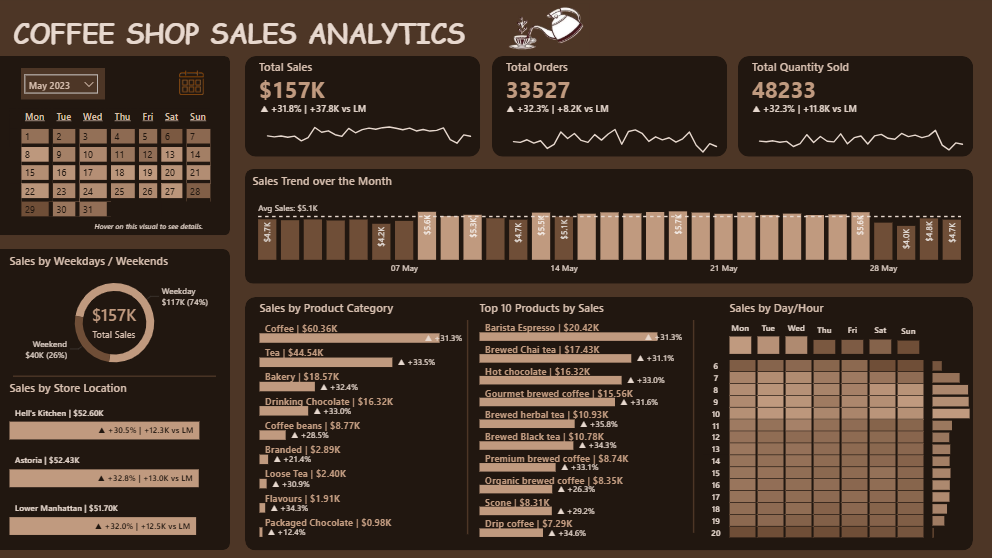

Layout of this report page (visuals, bound fields, positions):
{"tool":"powerbi","page":{"name":"Page 1","canvas":[1420,800],"ordinal":0},"visuals":[{"type":"shape","box":[352,424,1040,362],"z":0},{"type":"shape","box":[352,80,336,144],"z":1000},{"type":"shape","box":[0,356,330,430],"z":2000},{"type":"shape","box":[704,80,336,144],"z":3000},{"type":"shape","box":[352,242,1040,164],"z":4000},{"type":"shape","box":[1056,80,336,144],"z":5000},{"type":"shape","box":[0,80,330,256],"z":6000},{"type":"shape","box":[32,97,120,45],"z":7000},{"type":"cardVisual","fields":{"Data":["coffee_shop_sales.Total Sales"]},"box":[352,85,336,134],"z":8000},{"type":"cardVisual","fields":{"Data":["coffee_shop_sales.Total Orders"]},"box":[704,85,336,134],"z":9000},{"type":"cardVisual","fields":{"Data":["coffee_shop_sales.Total Quantity Sold"]},"box":[1056,85,336,134],"z":10000},{"type":"slicer","fields":{"Values":["Calendar Table.Month Year"]},"box":[32,102,115,32],"z":11000},{"type":"lineChart","fields":{"Category":["Calendar Table.Date.Variation.Date Hierarchy.Year","Calendar Table.Date.Variation.Date Hierarchy.Quarter","Calendar Table.Date.Variation.Date Hierarchy.Month","Calendar Table.Date.Variation.Date Hierarchy.Day"],"Y":["coffee_shop_sales.Total Sales"]},"box":[368,146,320,78],"z":12000},{"type":"lineChart","fields":{"Category":["Calendar Table.Date.Variation.Date Hierarchy.Year","Calendar Table.Date.Variation.Date Hierarchy.Quarter","Calendar Table.Date.Variation.Date Hierarchy.Month","Calendar Table.Date.Variation.Date Hierarchy.Day"],"Y":["coffee_shop_sales.Total Orders"]},"box":[720,146,320,78],"z":13000},{"type":"lineChart","fields":{"Category":["Calendar Table.Date.Variation.Date Hierarchy.Year","Calendar Table.Date.Variation.Date Hierarchy.Quarter","Calendar Table.Date.Variation.Date Hierarchy.Month","Calendar Table.Date.Variation.Date Hierarchy.Day"],"Y":["coffee_shop_sales.Total Quantity Sold"]},"box":[1072,146,320,78],"z":14000},{"type":"pivotTable","fields":{"Rows":["Calendar Table.Week number"],"Columns":["Calendar Table.Day Name"],"Values":["Min(Calendar Table.month date)"]},"box":[10,150,310,176],"z":15000},{"type":"donutChart","title":"Sales by Weekdays / Weekends","fields":{"Y":["coffee_shop_sales.Total Sales"],"Category":["Calendar Table.Day Type"]},"box":[10,361,310,178],"z":16000},{"type":"card","fields":{"Values":["coffee_shop_sales.Total Sales"]},"box":[124,422,80,74],"z":17000},{"type":"clusteredBarChart","title":"Sales by Store Location","fields":{"Y":["coffee_shop_sales.Placeholder","coffee_shop_sales.Total Sales"],"Category":["coffee_shop_sales.store_location"]},"box":[10,543,310,230],"z":18000},{"type":"columnChart","title":"Sales Trend over the Month","fields":{"Y":["coffee_shop_sales.Total Sales"],"Category":["coffee_shop_sales.transaction_date"]},"box":[357,247,1030,154],"z":19000},{"type":"clusteredBarChart","title":"Sales by Product Category","fields":{"Y":["coffee_shop_sales.Placeholder","coffee_shop_sales.Total Sales"],"Category":["coffee_shop_sales.product_category"]},"box":[367,429,300,344],"z":20000},{"type":"clusteredBarChart","title":"Top 10 Products by Sales","fields":{"Y":["coffee_shop_sales.Placeholder","coffee_shop_sales.Total Sales"],"Category":["coffee_shop_sales.product_type"]},"box":[682,429,300,344],"z":21000},{"type":"pivotTable","fields":{"Rows":["coffee_shop_sales.Transaction Hour"],"Columns":["Calendar Table.Day Name"],"Values":["coffee_shop_sales.Total Sales"]},"box":[1000,485,370,296],"z":22000},{"type":"barChart","fields":{"Category":["coffee_shop_sales.Transaction Hour"],"Y":["coffee_shop_sales.Total Sales"]},"box":[1328,503,64,270],"z":23000},{"type":"columnChart","title":"Sales by Day/Hour","fields":{"Y":["coffee_shop_sales.Total Sales"],"Category":["Calendar Table.Day Name"]},"box":[1038,429,282,83],"z":24000},{"type":"image","box":[244,96,60,45],"z":25000},{"type":"shape","box":[20,531,290,12],"z":26000},{"type":"shape","box":[662,457,16,306],"z":27000},{"type":"shape","box":[984,457,16,304],"z":28000},{"type":"image","box":[700,0,160,80],"z":29000},{"type":"textbox","box":[16,16,720,64],"z":30000},{"type":"textbox","box":[132,308,176,28],"z":31000}]}

Visuals, with their boxes in screenshot pixels (x1, y1, x2, y2), scaled from the page's 1420x800 canvas onto the 992x558 screenshot:
shape: 246:296:972:548
shape: 246:56:481:156
shape: 0:248:231:548
shape: 492:56:727:156
shape: 246:169:972:283
shape: 738:56:972:156
shape: 0:56:231:234
shape: 22:68:106:99
cardVisual - coffee_shop_sales.Total Sales: 246:59:481:153
cardVisual - coffee_shop_sales.Total Orders: 492:59:727:153
cardVisual - coffee_shop_sales.Total Quantity Sold: 738:59:972:153
slicer - Calendar Table.Month Year: 22:71:103:93
lineChart - Calendar Table.Date.Variation.Date Hierarchy.Year x Calendar Table.Date.Variation.Date Hierarchy.Quarter: 257:102:481:156
lineChart - Calendar Table.Date.Variation.Date Hierarchy.Year x Calendar Table.Date.Variation.Date Hierarchy.Quarter: 503:102:727:156
lineChart - Calendar Table.Date.Variation.Date Hierarchy.Year x Calendar Table.Date.Variation.Date Hierarchy.Quarter: 749:102:972:156
pivotTable - Calendar Table.Week number x Calendar Table.Day Name: 7:105:224:227
"Sales by Weekdays / Weekends" donutChart: 7:252:224:376
card - coffee_shop_sales.Total Sales: 87:294:143:346
"Sales by Store Location" clusteredBarChart: 7:379:224:539
"Sales Trend over the Month" columnChart: 249:172:969:280
"Sales by Product Category" clusteredBarChart: 256:299:466:539
"Top 10 Products by Sales" clusteredBarChart: 476:299:686:539
pivotTable - coffee_shop_sales.Transaction Hour x Calendar Table.Day Name: 699:338:957:545
barChart - coffee_shop_sales.Transaction Hour x coffee_shop_sales.Total Sales: 928:351:972:539
"Sales by Day/Hour" columnChart: 725:299:922:357
image: 170:67:212:98
shape: 14:370:217:379
shape: 462:319:474:532
shape: 687:319:699:531
image: 489:0:601:56
textbox: 11:11:514:56
textbox: 92:215:215:234
